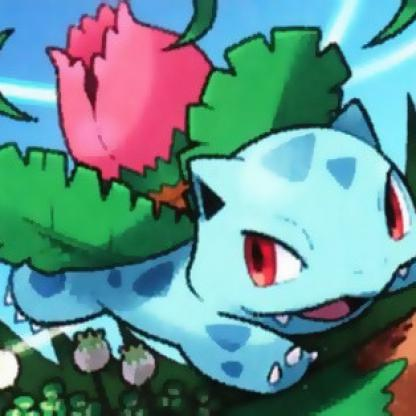Ivysaur: (1, 1, 416, 393)
